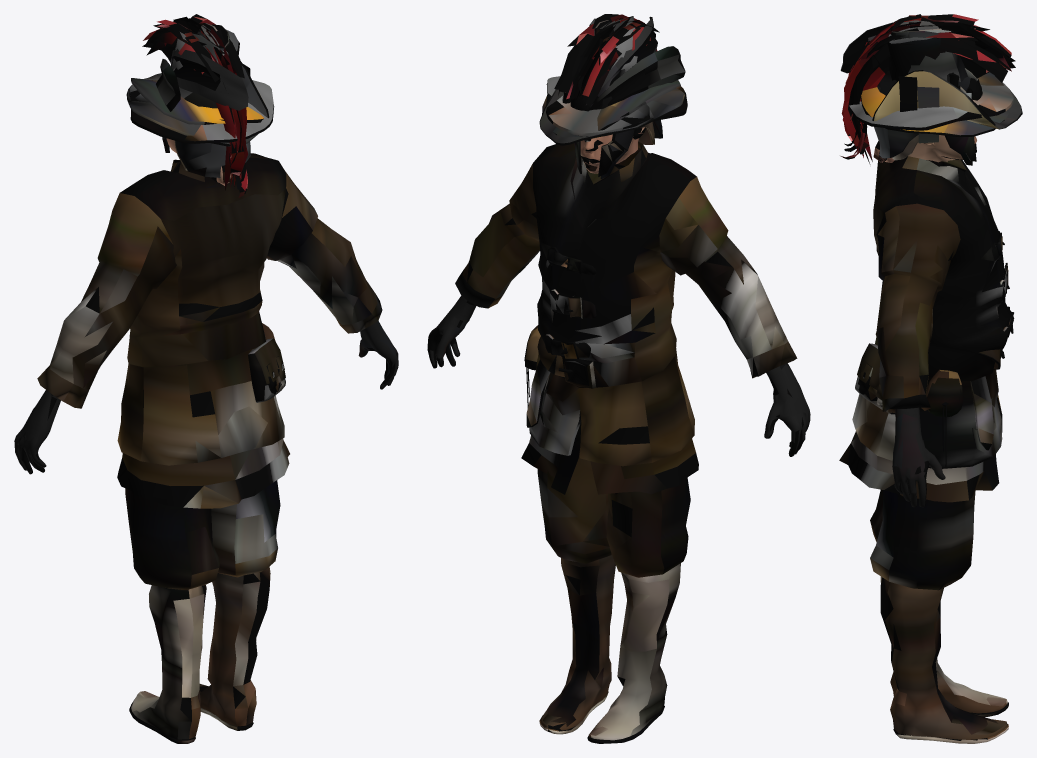
3 views of the same model, side by side, from view 1: azimuth 30°, elevation 25°; view 2: azimuth 150°, elevation 25°; view 3: azimuth 270°, elevation 25° (orthographic).
Visible parts, largest first — view 1: mesh_0; view 2: mesh_0; view 3: mesh_0.
Boxes of the visible parts, x1,y1,x2,y2 form: mesh_0: (14,14,398,743); mesh_0: (427,14,810,743); mesh_0: (839,14,1022,743).
Bounding box in the file's own units: 41.42 × 73.36 × 17.35.
Materials: 1 (1 with a texture image).
